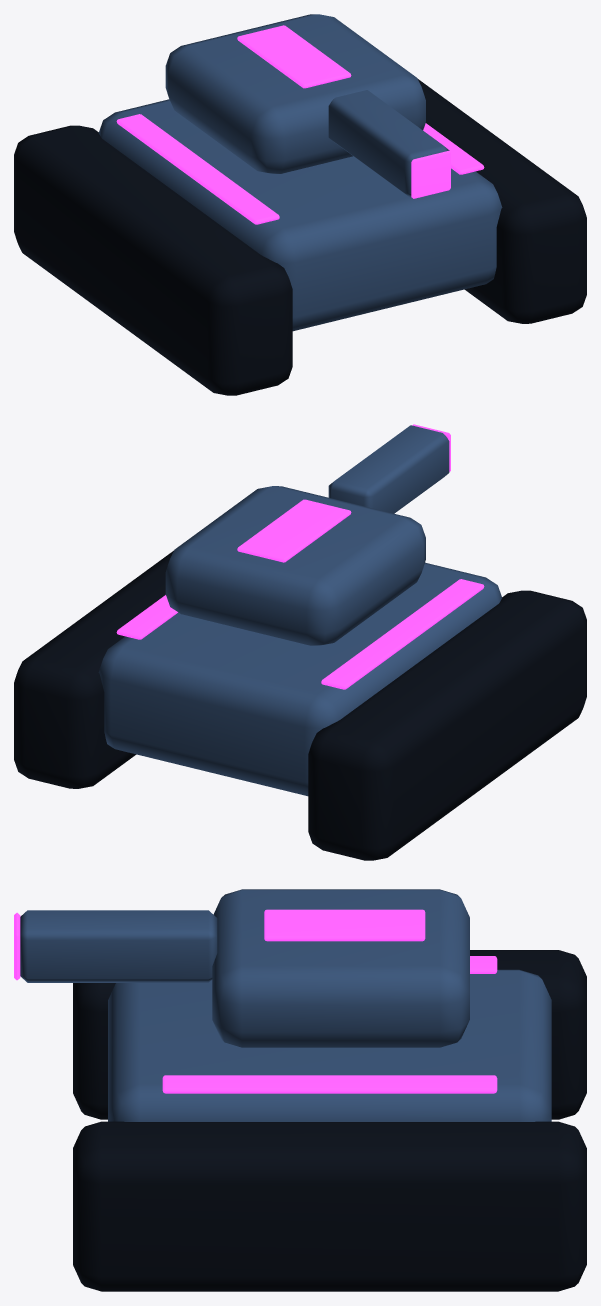
The model's file is NT_Tank_Magenta.fbx.
3 views of the same model, one above another, from view 1: azimuth 30°, elevation 25°; view 2: azimuth 150°, elevation 25°; view 3: azimuth 270°, elevation 25° (orthographic). The views are drawn at different scales.
Parts seen in each view (by area): view 1: NT_Tank_Magenta__TrackLeftMesh, NT_Tank_Magenta__BodyMesh, NT_Tank_Magenta__TurretMesh, NT_Tank_Magenta__TrackRightMesh, NT_Tank_Magenta__BarrelMesh; view 2: NT_Tank_Magenta__BodyMesh, NT_Tank_Magenta__TrackLeftMesh, NT_Tank_Magenta__TurretMesh, NT_Tank_Magenta__TrackRightMesh, NT_Tank_Magenta__BarrelMesh; view 3: NT_Tank_Magenta__TrackRightMesh, NT_Tank_Magenta__BodyMesh, NT_Tank_Magenta__TurretMesh, NT_Tank_Magenta__BarrelMesh, NT_Tank_Magenta__TrackLeftMesh.
Part boxes in pixels (x1=…): NT_Tank_Magenta__TrackLeftMesh: x1=14, y1=125, x2=292, y2=395; NT_Tank_Magenta__BodyMesh: x1=98, y1=99, x2=502, y2=331; NT_Tank_Magenta__TurretMesh: x1=165, y1=14, x2=425, y2=173; NT_Tank_Magenta__TrackRightMesh: x1=417, y1=78, x2=586, y2=323; NT_Tank_Magenta__BarrelMesh: x1=328, y1=90, x2=450, y2=198; NT_Tank_Magenta__BodyMesh: x1=98, y1=562, x2=502, y2=796; NT_Tank_Magenta__TrackLeftMesh: x1=308, y1=590, x2=586, y2=860; NT_Tank_Magenta__TurretMesh: x1=165, y1=486, x2=425, y2=645; NT_Tank_Magenta__TrackRightMesh: x1=14, y1=550, x2=173, y2=788; NT_Tank_Magenta__BarrelMesh: x1=328, y1=424, x2=450, y2=513; NT_Tank_Magenta__TrackRightMesh: x1=73, y1=1121, x2=586, y2=1291; NT_Tank_Magenta__BodyMesh: x1=108, y1=956, x2=551, y2=1121; NT_Tank_Magenta__TurretMesh: x1=212, y1=889, x2=469, y2=1047; NT_Tank_Magenta__BarrelMesh: x1=14, y1=910, x2=217, y2=982; NT_Tank_Magenta__TrackLeftMesh: x1=73, y1=950, x2=586, y2=1119.
Bounding box in the file's own units: 2.1 × 1.22 × 2.31.
